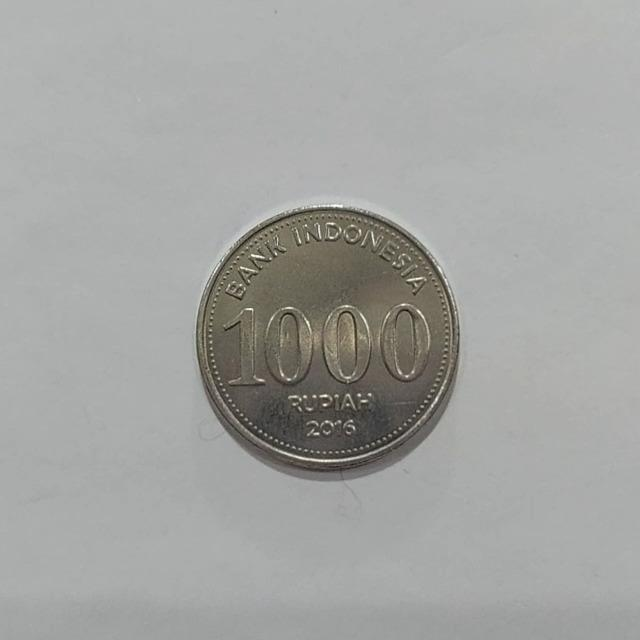Rp100: (193, 202, 461, 477)
